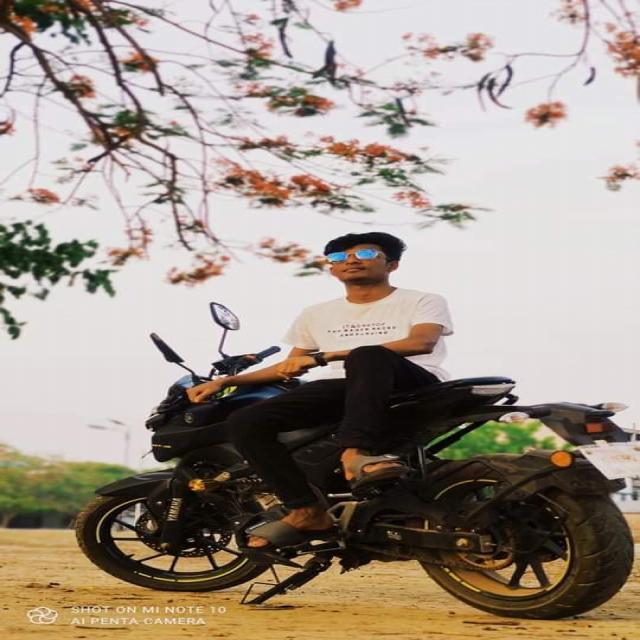No helmet: (324, 227, 409, 294)
